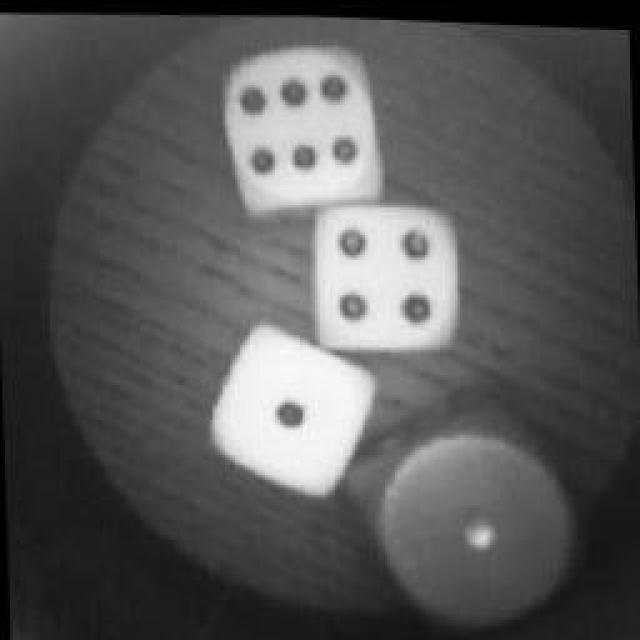dice_1: (355, 403, 593, 635), (202, 325, 382, 493)
dice_4: (308, 185, 468, 357)
dice_6: (220, 35, 395, 215)
